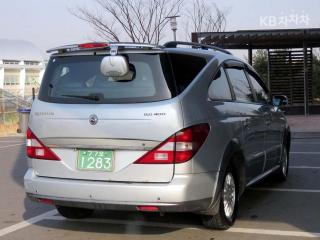1: (79, 155, 87, 169)
2: (87, 156, 95, 169)
3: (103, 157, 111, 170)
7: (87, 150, 92, 157), (93, 150, 98, 157)
8: (95, 157, 103, 170)
plate: (75, 144, 117, 174)
모: (98, 150, 104, 158)
